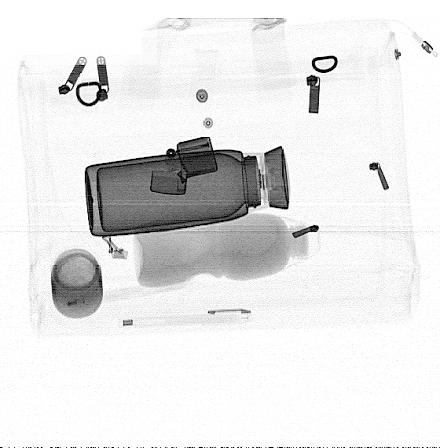Lighter: (150, 137, 218, 195)
